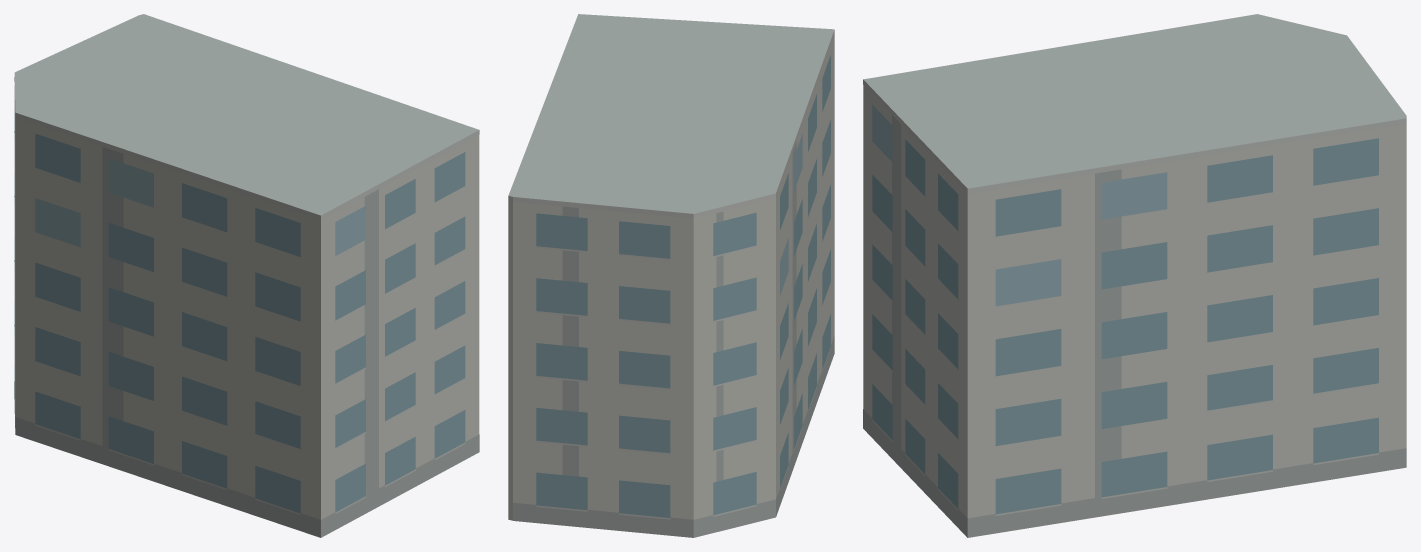
The model's file is survey-upis-32859868.glb.
The picture shows the model from 3 angles, left to right: view 1: azimuth 30°, elevation 25°; view 2: azimuth 150°, elevation 25°; view 3: azimuth 270°, elevation 25°; orthographic projection. The views are drawn at different scales.
Parts seen in each view (by area): view 1: survey-upis-32859868.tmp; view 2: survey-upis-32859868.tmp; view 3: survey-upis-32859868.tmp.
Boxes of the visible parts, x1,y1,x2,y2 form: survey-upis-32859868.tmp: (14, 14, 479, 537); survey-upis-32859868.tmp: (508, 14, 834, 537); survey-upis-32859868.tmp: (863, 14, 1406, 537).
Bounding box in the file's own units: 17.33 × 16.15 × 22.79.
